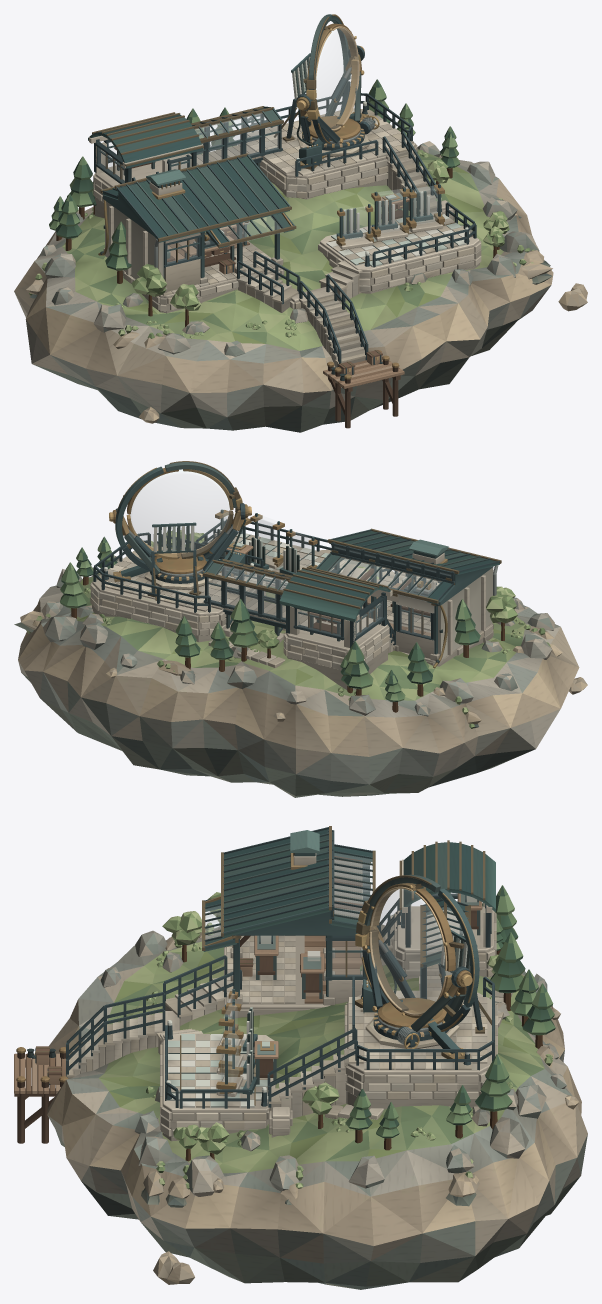
File: liquid-glass.glb
3 views of the same model, one above another, from view 1: azimuth 30°, elevation 25°; view 2: azimuth 150°, elevation 25°; view 3: azimuth 270°, elevation 25° (orthographic). The views are drawn at different scales.
Visible parts, largest first — view 1: Liquid Glass — The Refraction Atelier; view 2: Liquid Glass — The Refraction Atelier; view 3: Liquid Glass — The Refraction Atelier.
Boxes of the visible parts, <box> form: Liquid Glass — The Refraction Atelier: <box>14,14,587,432</box>; Liquid Glass — The Refraction Atelier: <box>14,461,587,797</box>; Liquid Glass — The Refraction Atelier: <box>14,826,587,1289</box>.
Bounding box in the file's own units: 21.94 × 12.12 × 17.37.
Materials: 8 (1 with a texture image).
